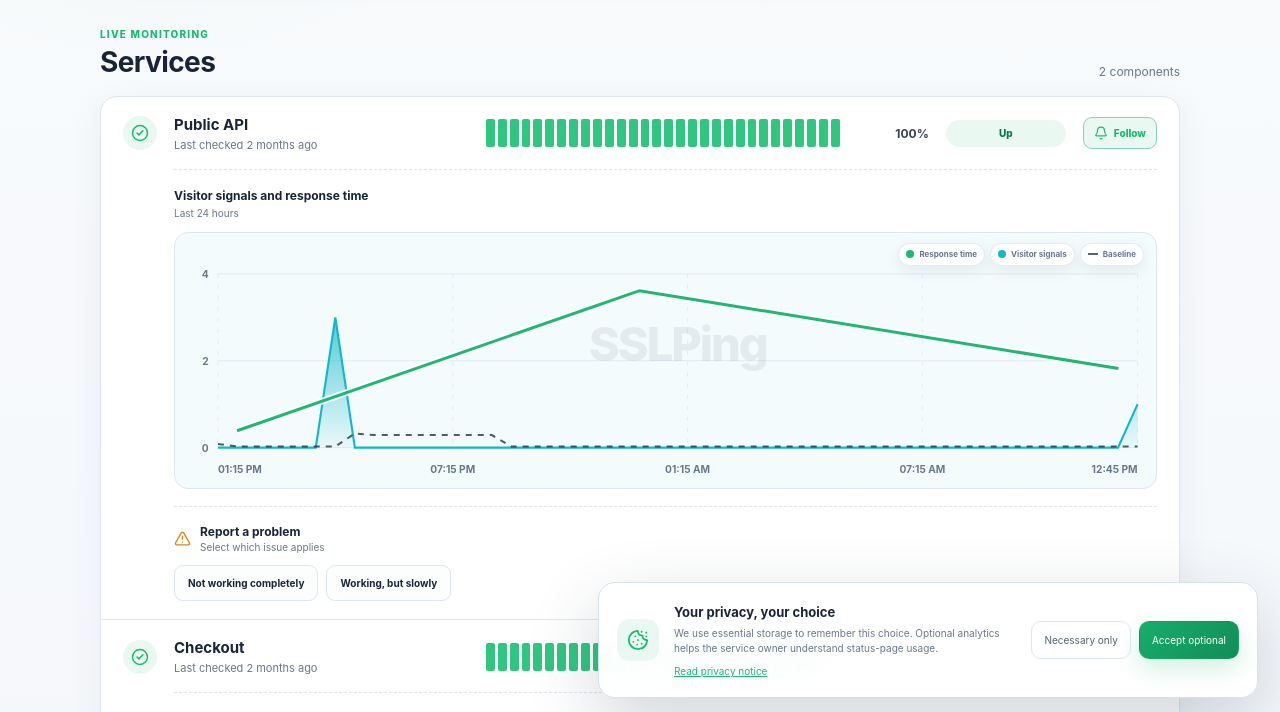
PublicStatusPage › combines visitor signals and response time without summary statistics
This screenshot has width=1280, height=712.
(page scrolled)
Expected: the text "Public API" is shown, [174,115,248,134]
Focus the picture named "Visitor signals and response time" at (666,361), box [175,233,1156,488]
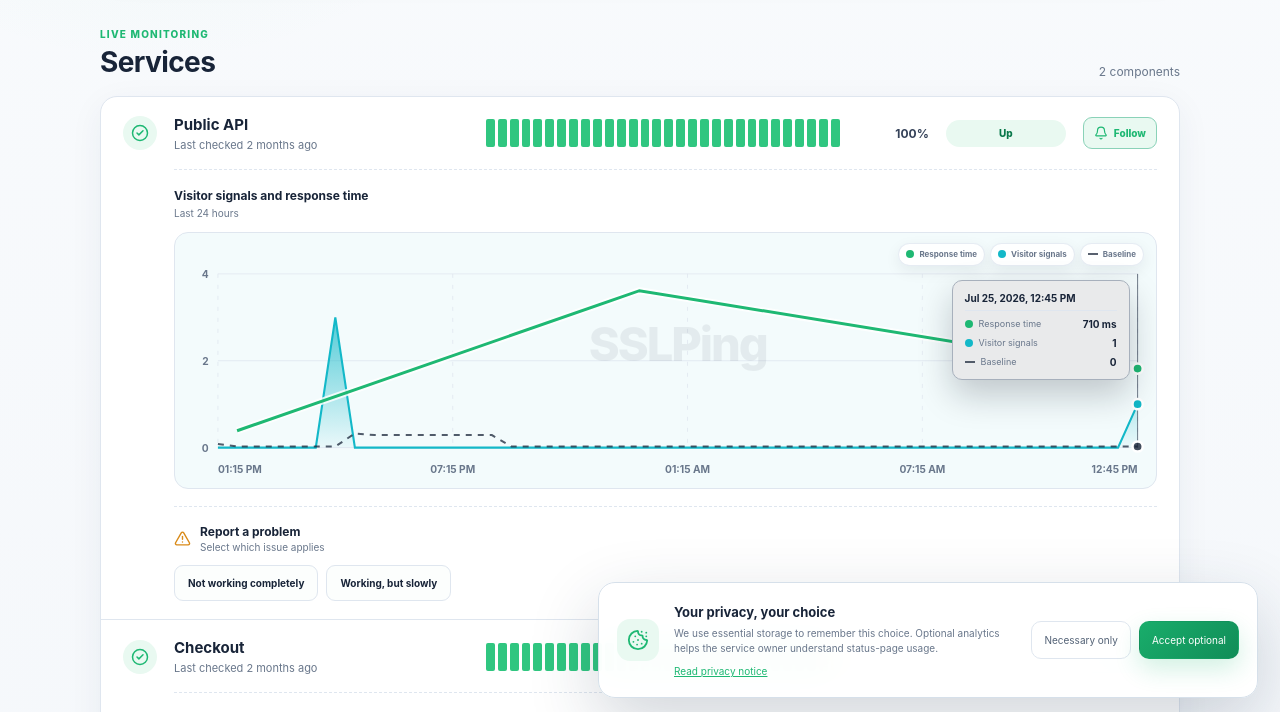
Expected: the text "Visitor signals" is shown, [990,243,1075,266]
Now the text "710 ms" is shown, box [1083,318,1117,330]
